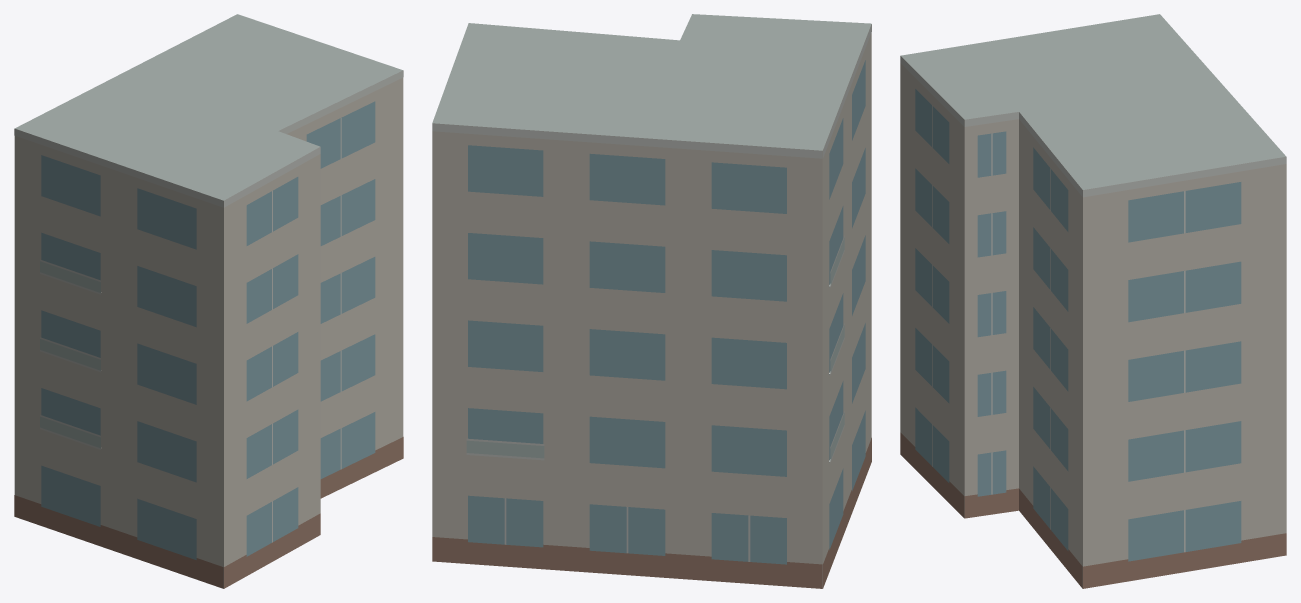
The model's file is survey-upis-32943865.glb.
3 views of the same model, side by side, from view 1: azimuth 30°, elevation 25°; view 2: azimuth 150°, elevation 25°; view 3: azimuth 270°, elevation 25° (orthographic). The views are drawn at different scales.
Visible parts, largest first — view 1: survey-upis-32943865.tmp; view 2: survey-upis-32943865.tmp; view 3: survey-upis-32943865.tmp.
Boxes of the visible parts, x1,y1,x2,y2 form: survey-upis-32943865.tmp: (14, 14, 403, 588); survey-upis-32943865.tmp: (432, 14, 871, 588); survey-upis-32943865.tmp: (900, 14, 1286, 588).
Size of the model in its own units: 12.66 by 13.35 by 11.72.
